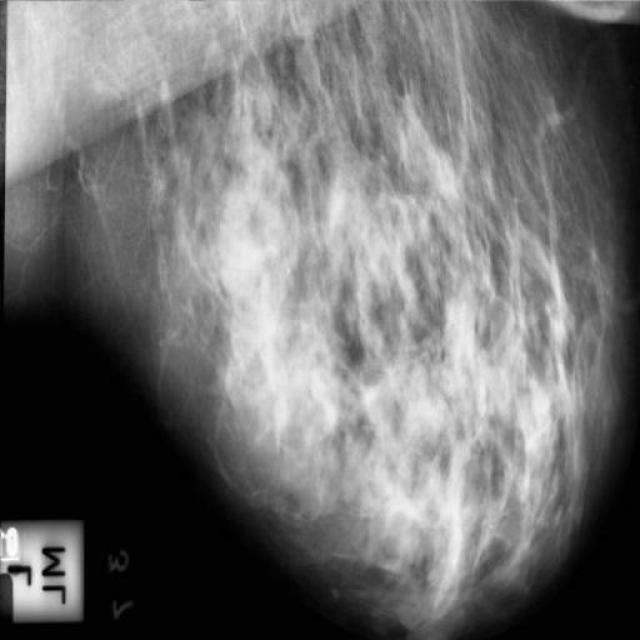cancer: (238, 403, 272, 467)
